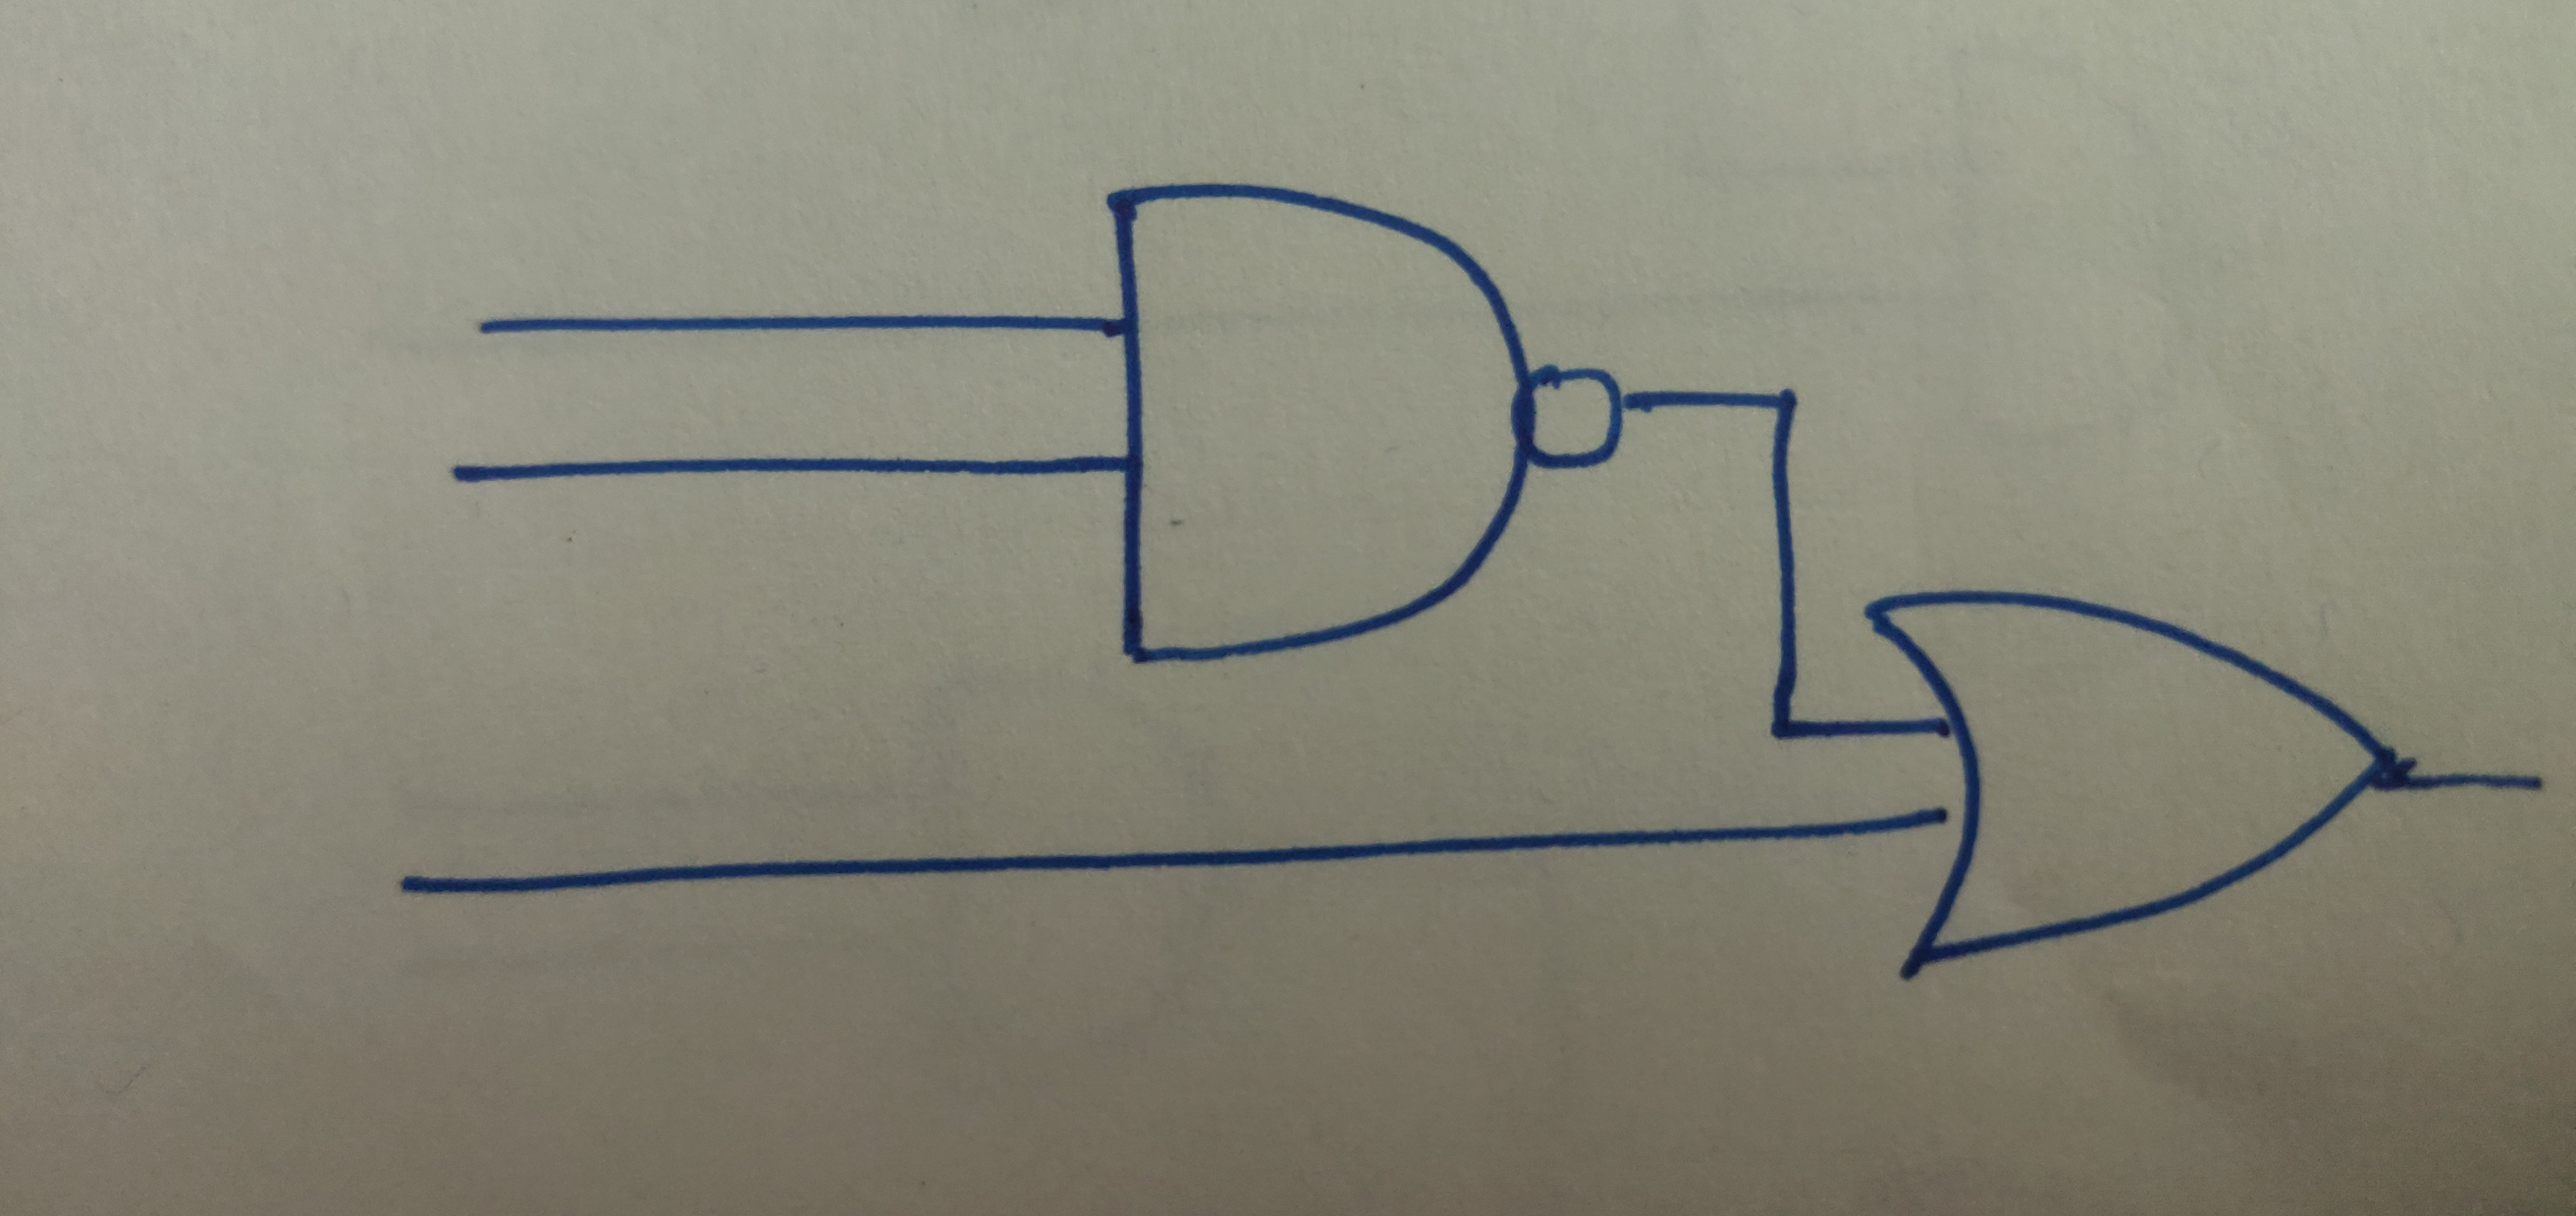and: (1101, 177, 1541, 661)
not: (1518, 365, 1630, 480)
or: (1856, 592, 2403, 993)
